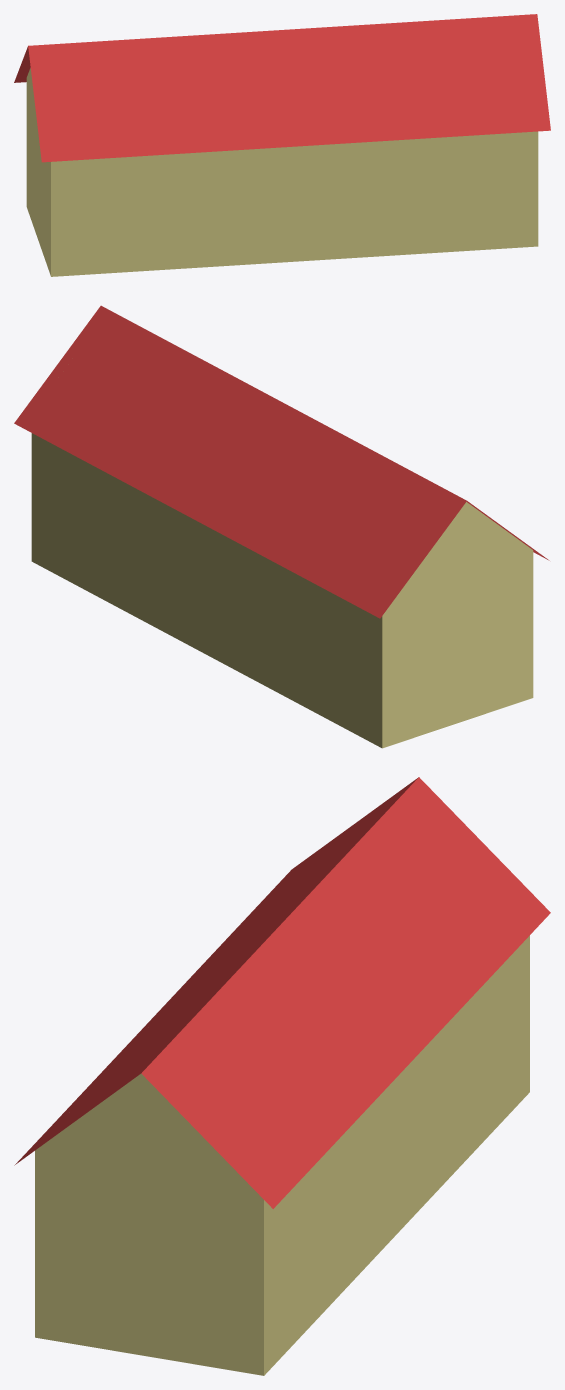
3 views of the same model, one above another, from view 1: azimuth 30°, elevation 25°; view 2: azimuth 150°, elevation 25°; view 3: azimuth 270°, elevation 25° (orthographic). The views are drawn at different scales.
Size of the model in its own units: 37.21 by 24.85 by 14.77.
